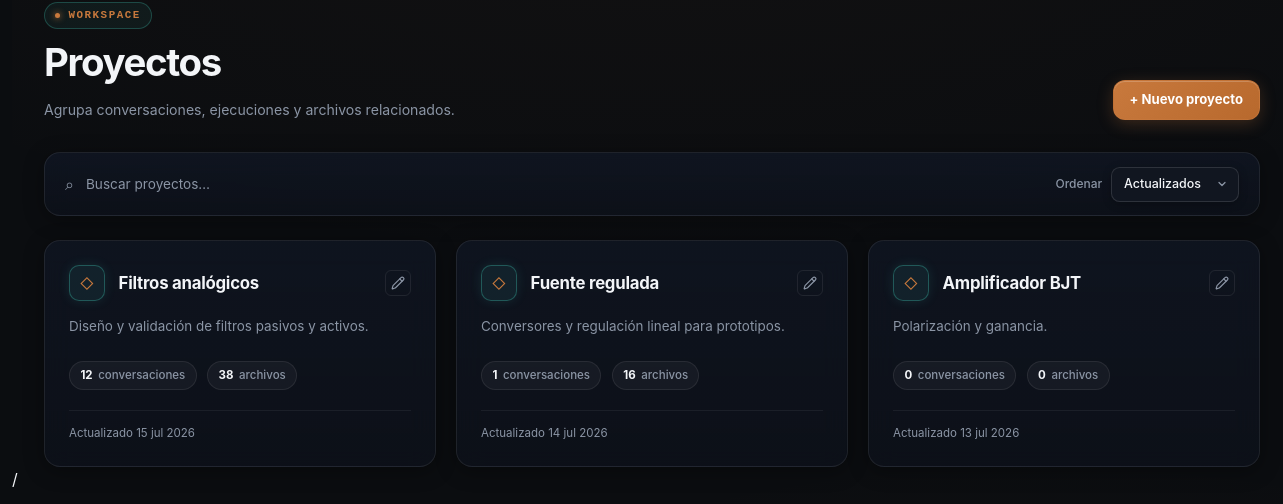
Test: renders a searchable, newest-first project directory
Check: the element "Filtros analógicos" shows "12 conversaciones", box [44,240,436,467]
Check: the element "Filtros analógicos" shows "38 archivos", box [44,240,436,467]
Select "Nombre" in the dropdown named "Ordenar proyectos": (1175, 184) [1111,167,1239,202]
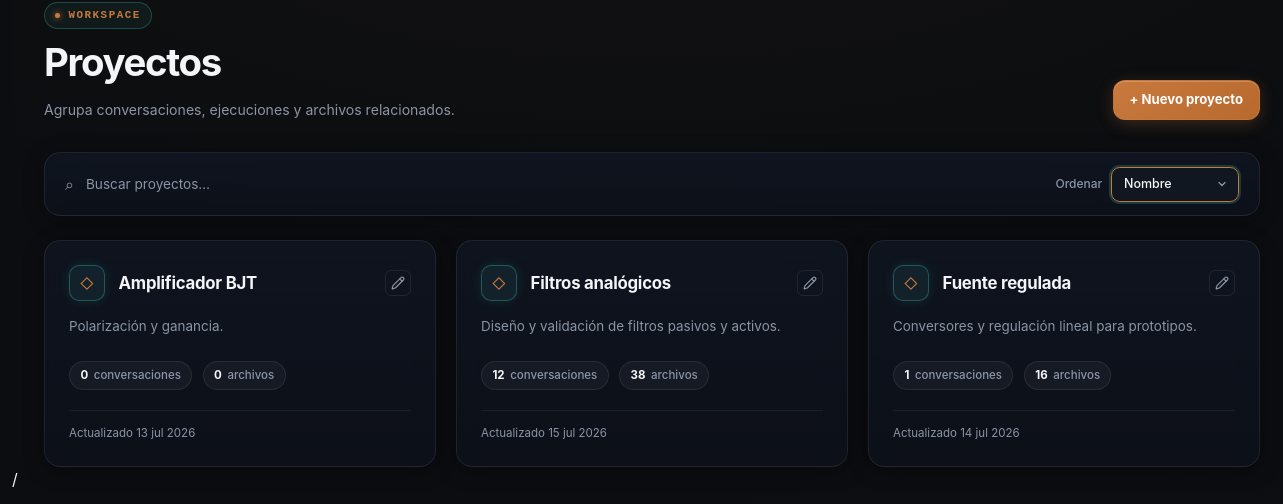
Check: the link "Amplificador BJT" is shown, box [119,273,257,293]
Check: the link "Filtros analógicos" is shown, box [531,273,671,293]
In the search field named "Buscar proyectos": (564, 184) [86,174,1042,194], type "fuente"
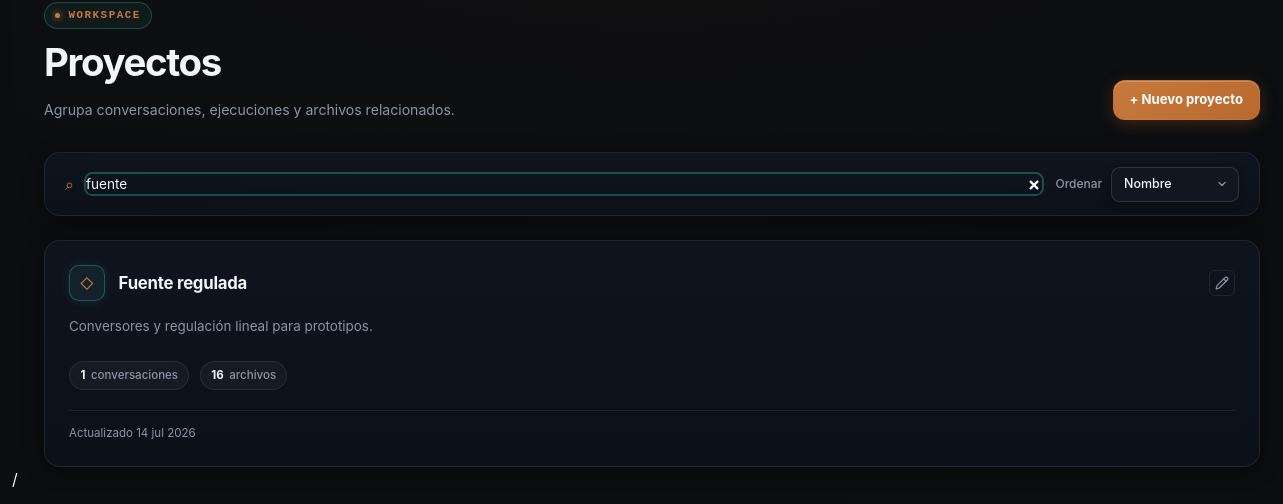
Check: the element "Fuente regulada" is shown, box [44,240,1260,467]
Check: the link "Filtros analógicos" is gone
